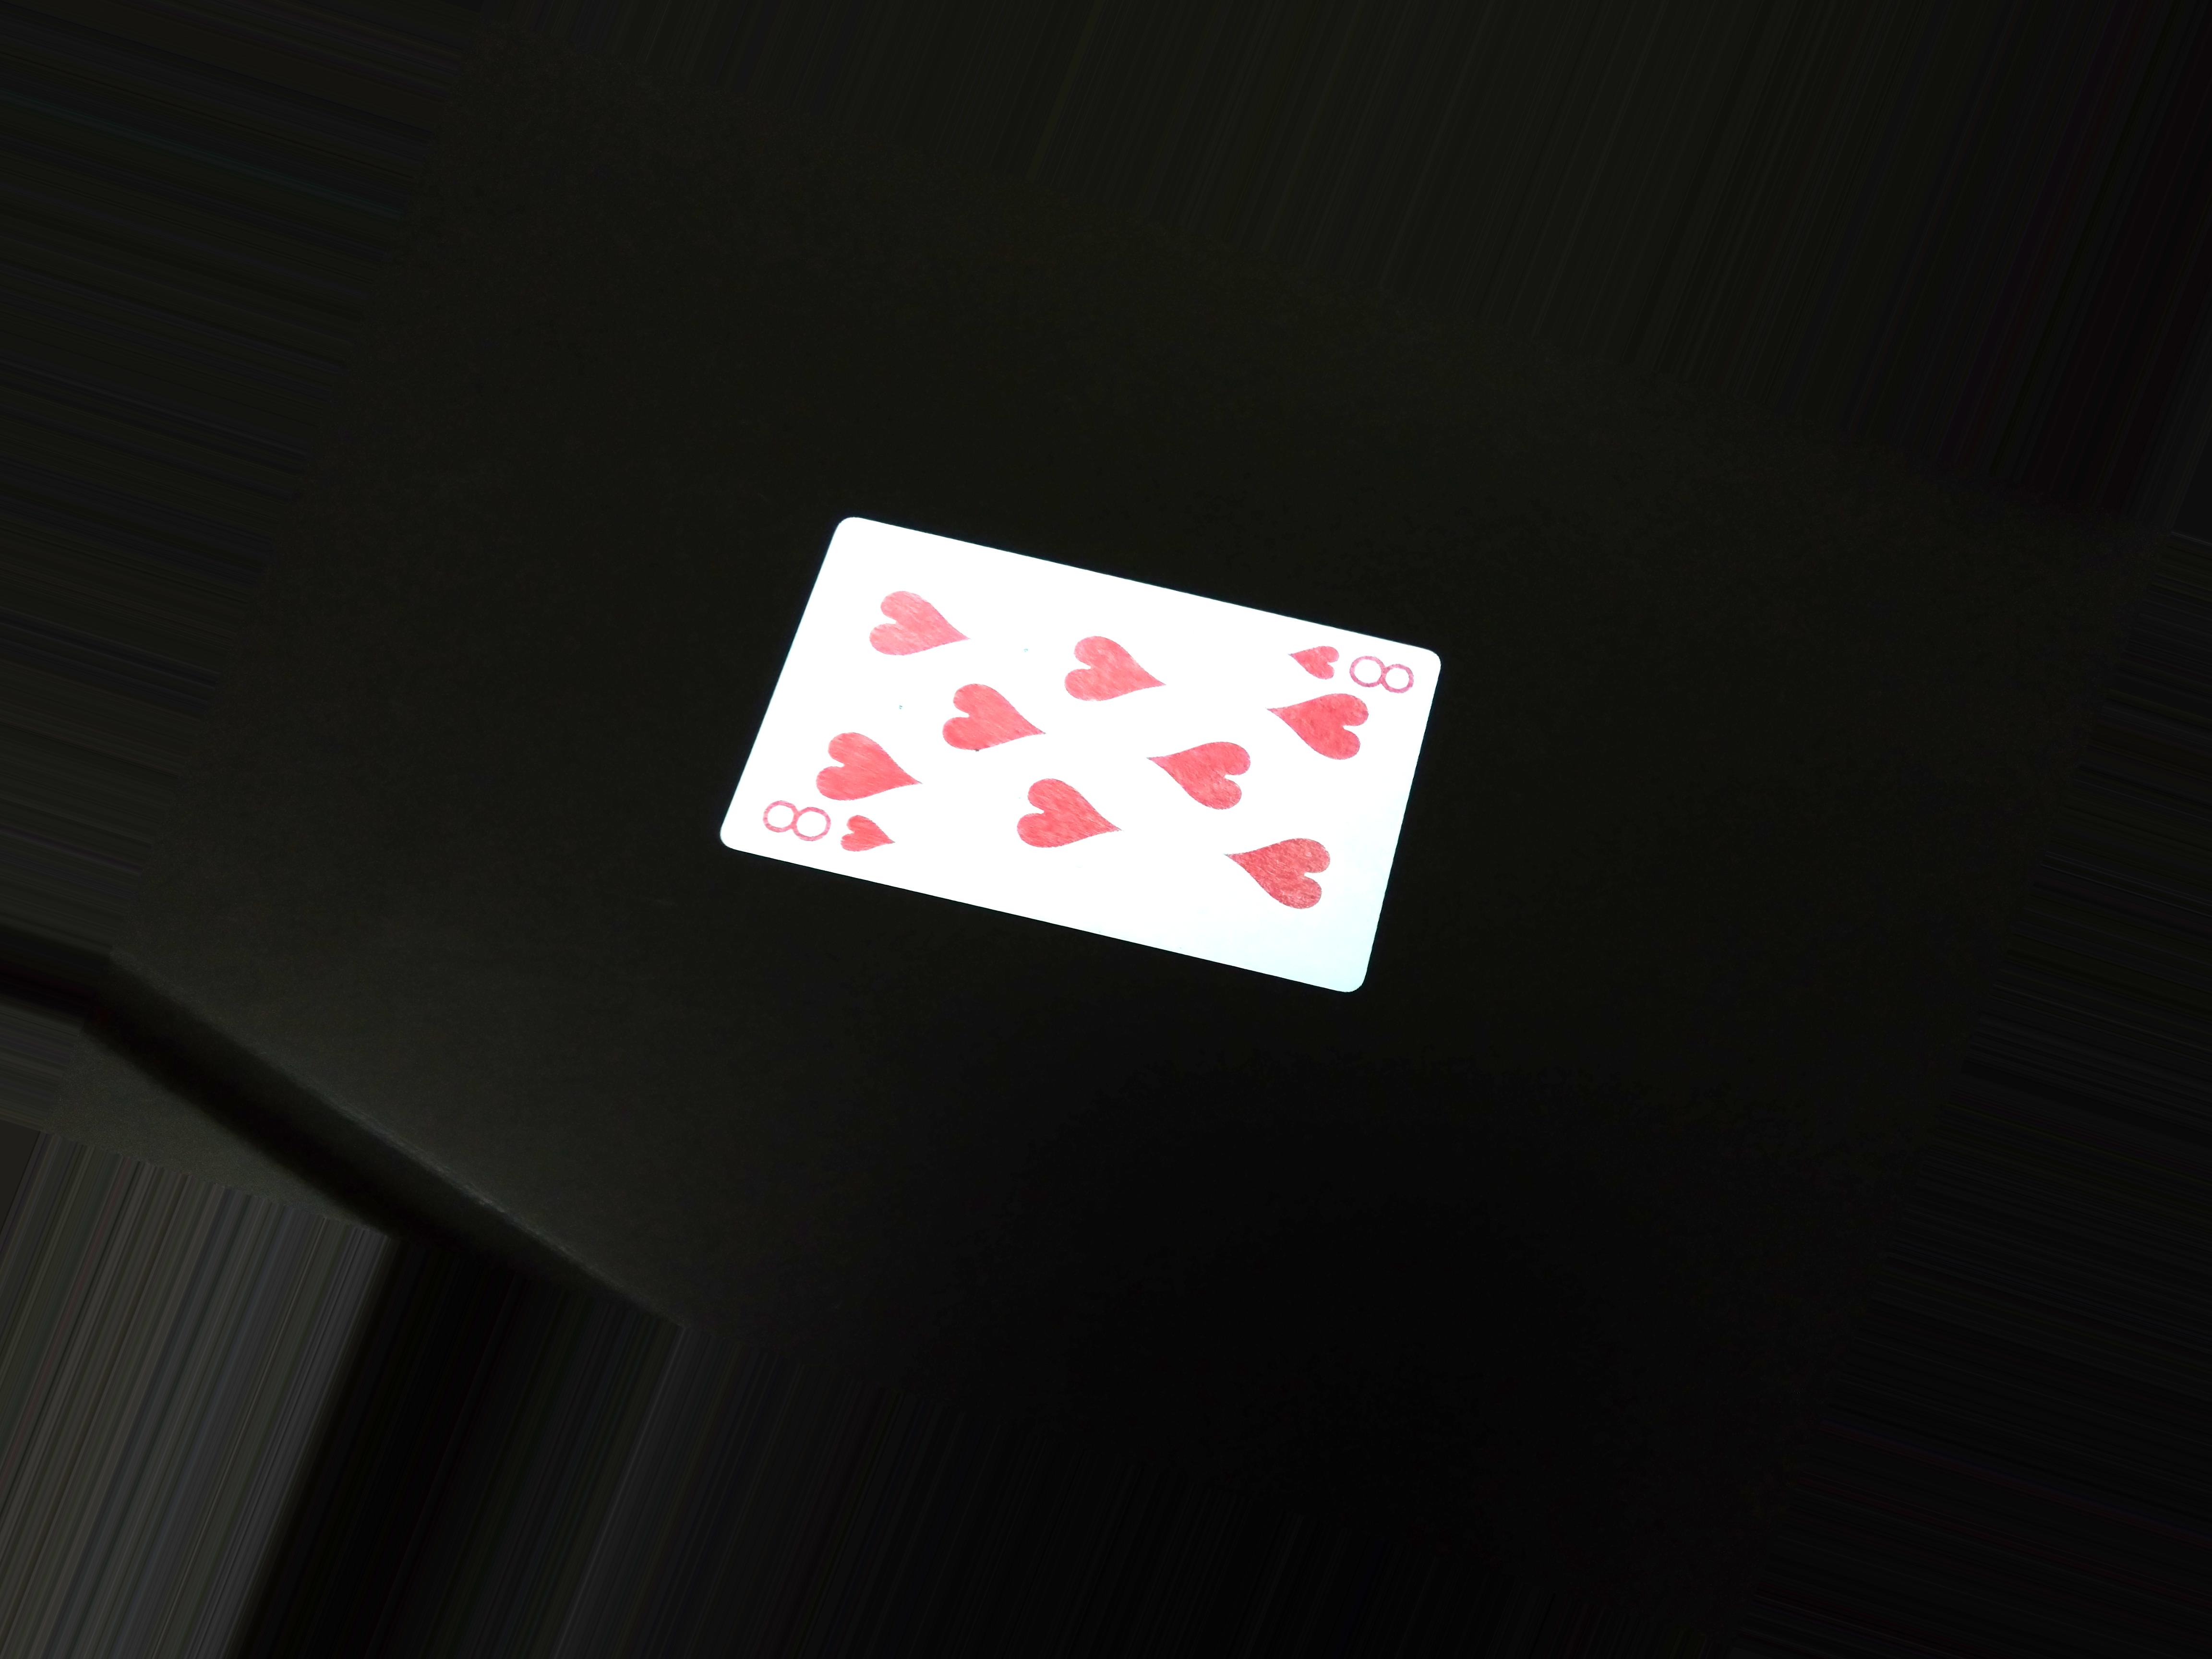8H: (752, 788, 906, 863)
